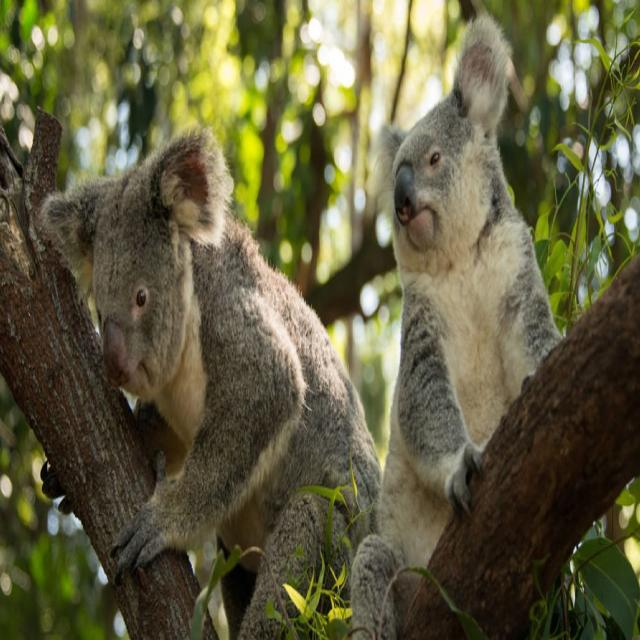Koala: (33, 124, 374, 638), (349, 11, 559, 640)
